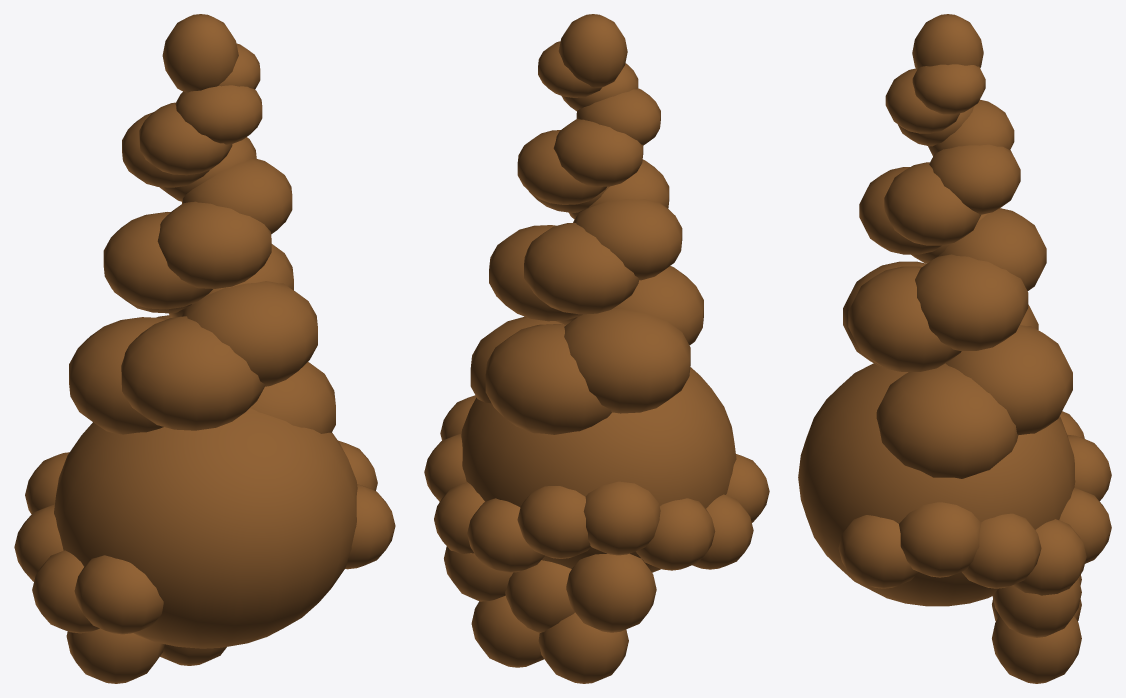
File: cameos_hair_avigail.glb
3 views of the same model, side by side, from view 1: azimuth 30°, elevation 25°; view 2: azimuth 150°, elevation 25°; view 3: azimuth 270°, elevation 25° (orthographic). The views are drawn at different scales.
Visible parts, largest first — view 1: Hair_avigail; view 2: Hair_avigail; view 3: Hair_avigail.
Part boxes in pixels (left/top/right/bottom): Hair_avigail: left=14, top=14, right=395, bottom=683; Hair_avigail: left=424, top=14, right=769, bottom=683; Hair_avigail: left=798, top=14, right=1111, bottom=683.
Size of the model in its own units: 0.6392 by 1.26 by 0.5559.
